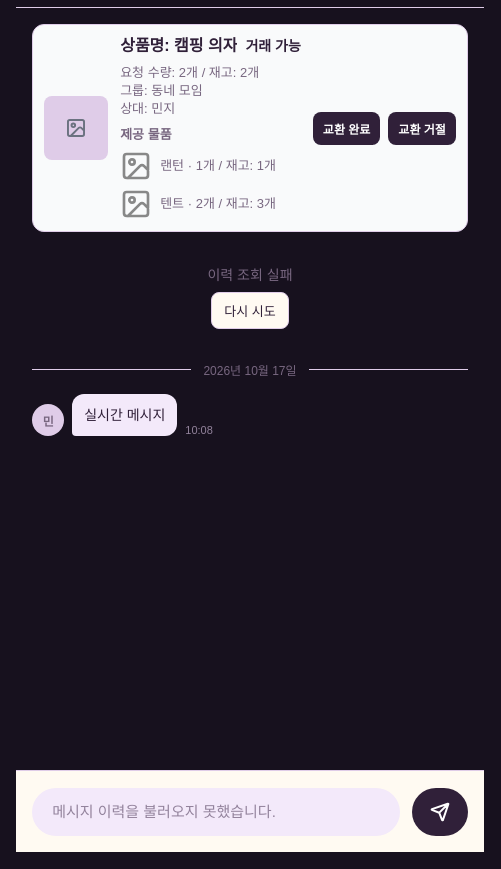
첫 이력 조회 실패 후 실시간 메시지가 있어도 재시도할 수 있고 성공 전까지 전송을 막는다
Check: the text "상품명: 캠핑 의자" is shown, box [120,36,238,56]
Check: the field labelled "메시지" is disabled, box [32,788,400,836]
Click the button "다시 시도".
click(250, 310)  # box [211,292,289,329]
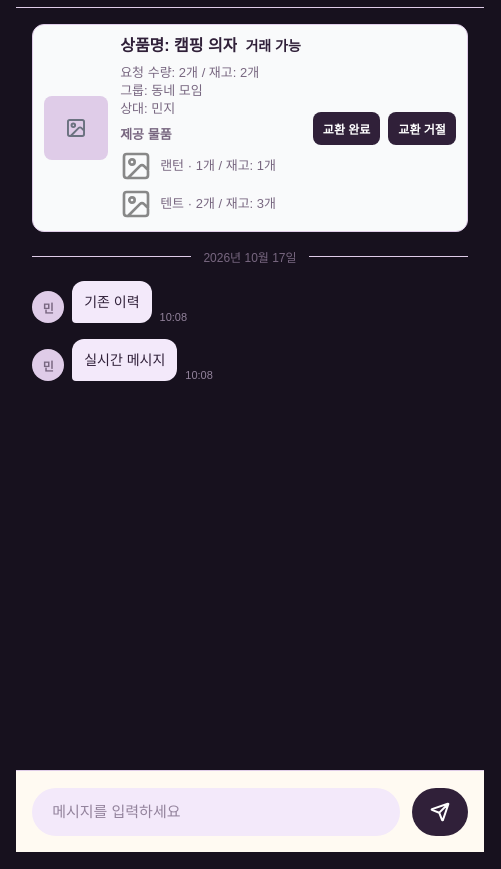
Check: the text "실시간 메시지" is shown, box [72,339,177,381]
Check: the text "기존 이력" is shown, box [72,281,152,323]
Check: the field labelled "메시지" is enabled, box [32,788,400,836]
